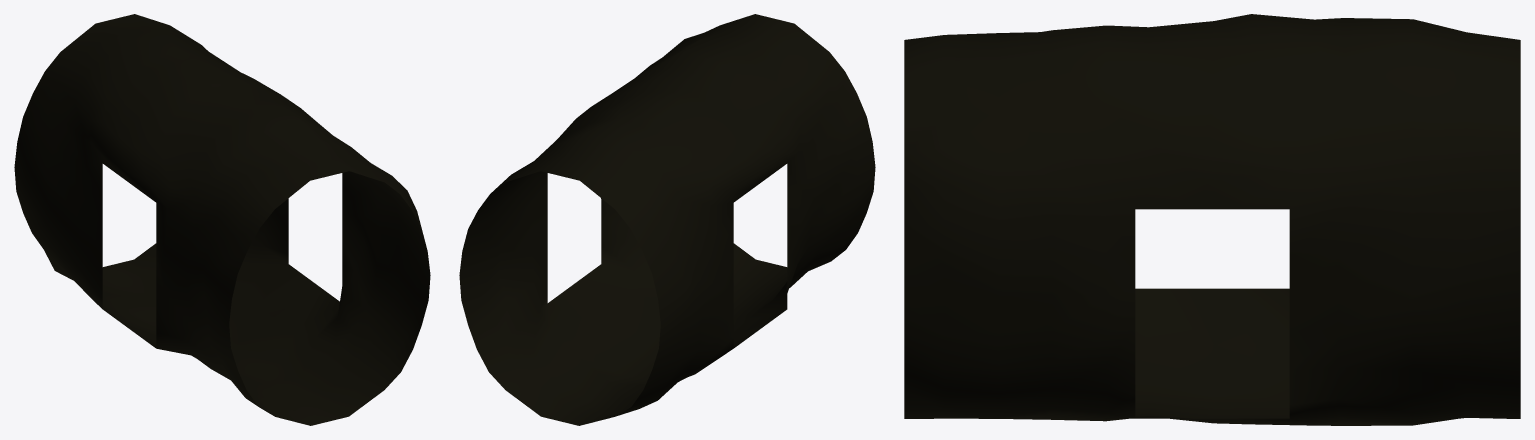
Rendered from straight_doorway_double.dae.
3 renders of one model, left to right at view 1: azimuth 30°, elevation 25°; view 2: azimuth 150°, elevation 25°; view 3: azimuth 270°, elevation 25°, orthographic. The views are drawn at different scales.
Visible parts, largest first — view 1: straight_doorway_double; view 2: straight_doorway_double; view 3: straight_doorway_double.
Boxes of the visible parts, <box> form: straight_doorway_double: <box>14,14,430,425</box>; straight_doorway_double: <box>459,14,875,425</box>; straight_doorway_double: <box>904,14,1520,425</box>.
Bounding box in the file's own units: 4.61 × 5.53 × 8.
